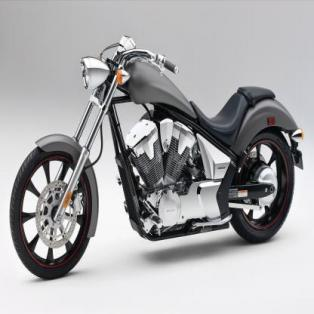Motocicleta: (7, 32, 305, 283)
